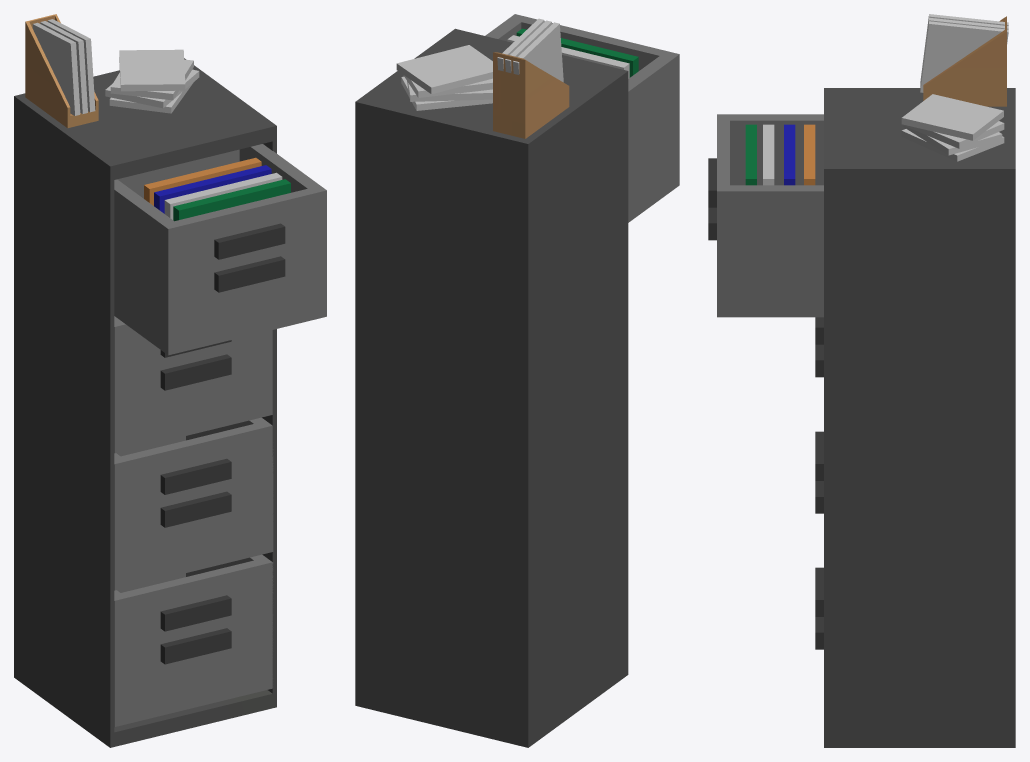
The model's file is filing-cabinet--3.gltf.
3 renders of one model, left to right at view 1: azimuth 30°, elevation 25°; view 2: azimuth 150°, elevation 25°; view 3: azimuth 270°, elevation 25°, orthographic. The views are drawn at different scales.
Parts seen in each view (by area): view 1: Drawers2; view 2: Drawers2; view 3: Drawers2.
Boxes of the visible parts, bbox=[...] form: Drawers2: bbox=[14, 14, 326, 747]; Drawers2: bbox=[355, 14, 679, 747]; Drawers2: bbox=[708, 14, 1015, 747].
Bounding box in the file's own units: 0.3756 × 1.43 × 0.6028.
Materials: 1 (1 with a texture image).
